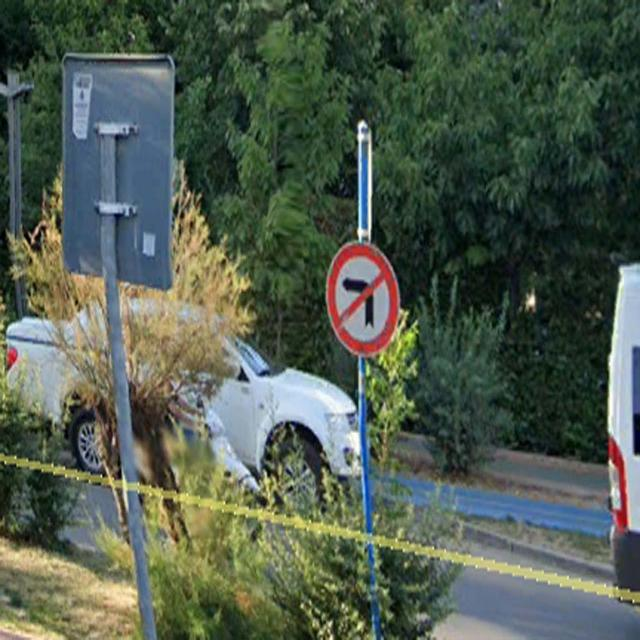soladonulmez: (324, 239, 401, 359)
